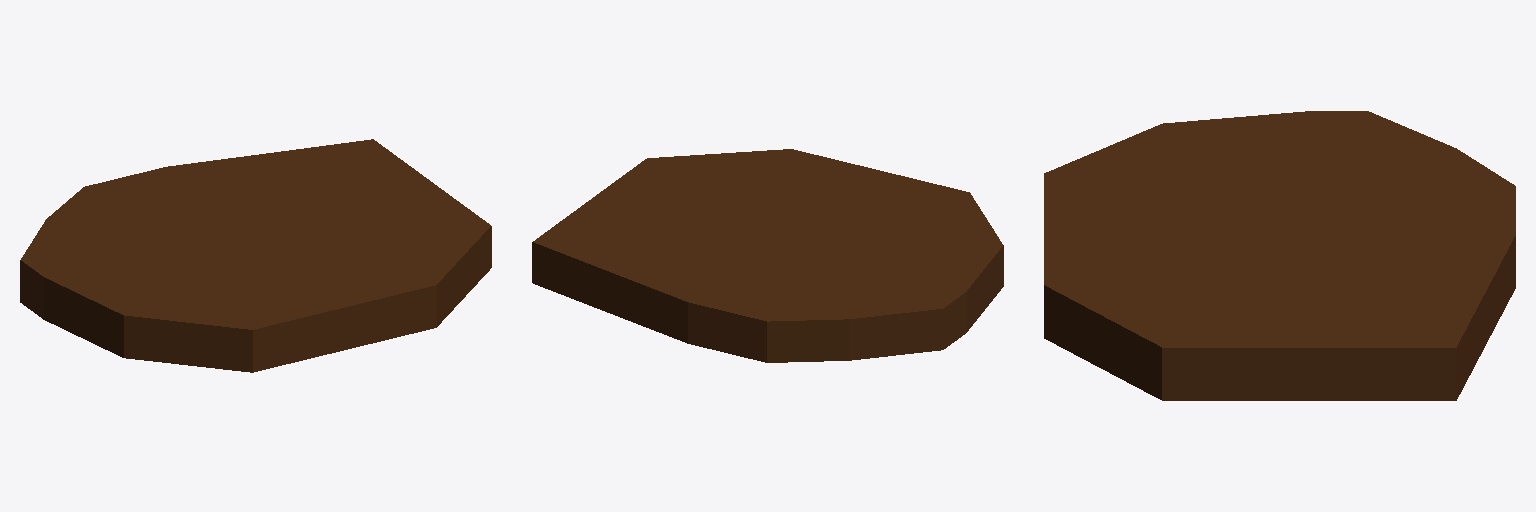
URDF robot description (table):
<?xml version="1.0"?>
<robot name="table">
  <!-- The table top of Red party cup: a static convex slab, top face at z = 0. Load with a fixed base -->
  <mujoco>
    <compiler meshdir="../meshes/" discardvisual="true" balanceinertia="true" fusestatic="false" />
  </mujoco>
  <link name="table">
    <inertial>
      <mass value="20" />
      <inertia ixx="1" ixy="0" ixz="0" iyy="1" iyz="0" izz="1" />
    </inertial>
    <visual>
      <geometry>
        <mesh filename="../meshes/table.obj" />
      </geometry>
      <material name="table_color">
        <color rgba="0.361 0.224 0.122 1" />
      </material>
    </visual>
    <collision>
      <geometry>
        <mesh filename="../meshes/table.obj" />
      </geometry>
    </collision>
    <contact>
      <lateral_friction value="1" />
    </contact>
  </link>
</robot>

--- What the picture shows (computed from the rendered views, not written in the file) ---
Views: 3 orthographic renders of the robot side by side, from view 1: azimuth 30°, elevation 25°; view 2: azimuth 150°, elevation 25°; view 3: azimuth 270°, elevation 25°.
Robot: table — 1 links, 0 joints (none); root link table; default pose: every joint at zero.
Visible links, largest first — view 1: table; view 2: table; view 3: table.
Link boxes in pixels (x1=…): table: x1=20, y1=139, x2=491, y2=372; table: x1=532, y1=149, x2=1003, y2=362; table: x1=1044, y1=111, x2=1515, y2=400.
Bounding box of the posed robot: 0.38 × 0.32 × 0.04 m (x, y, z).
1 mesh visuals loaded from 1 distinct referenced files (1 OBJ).
